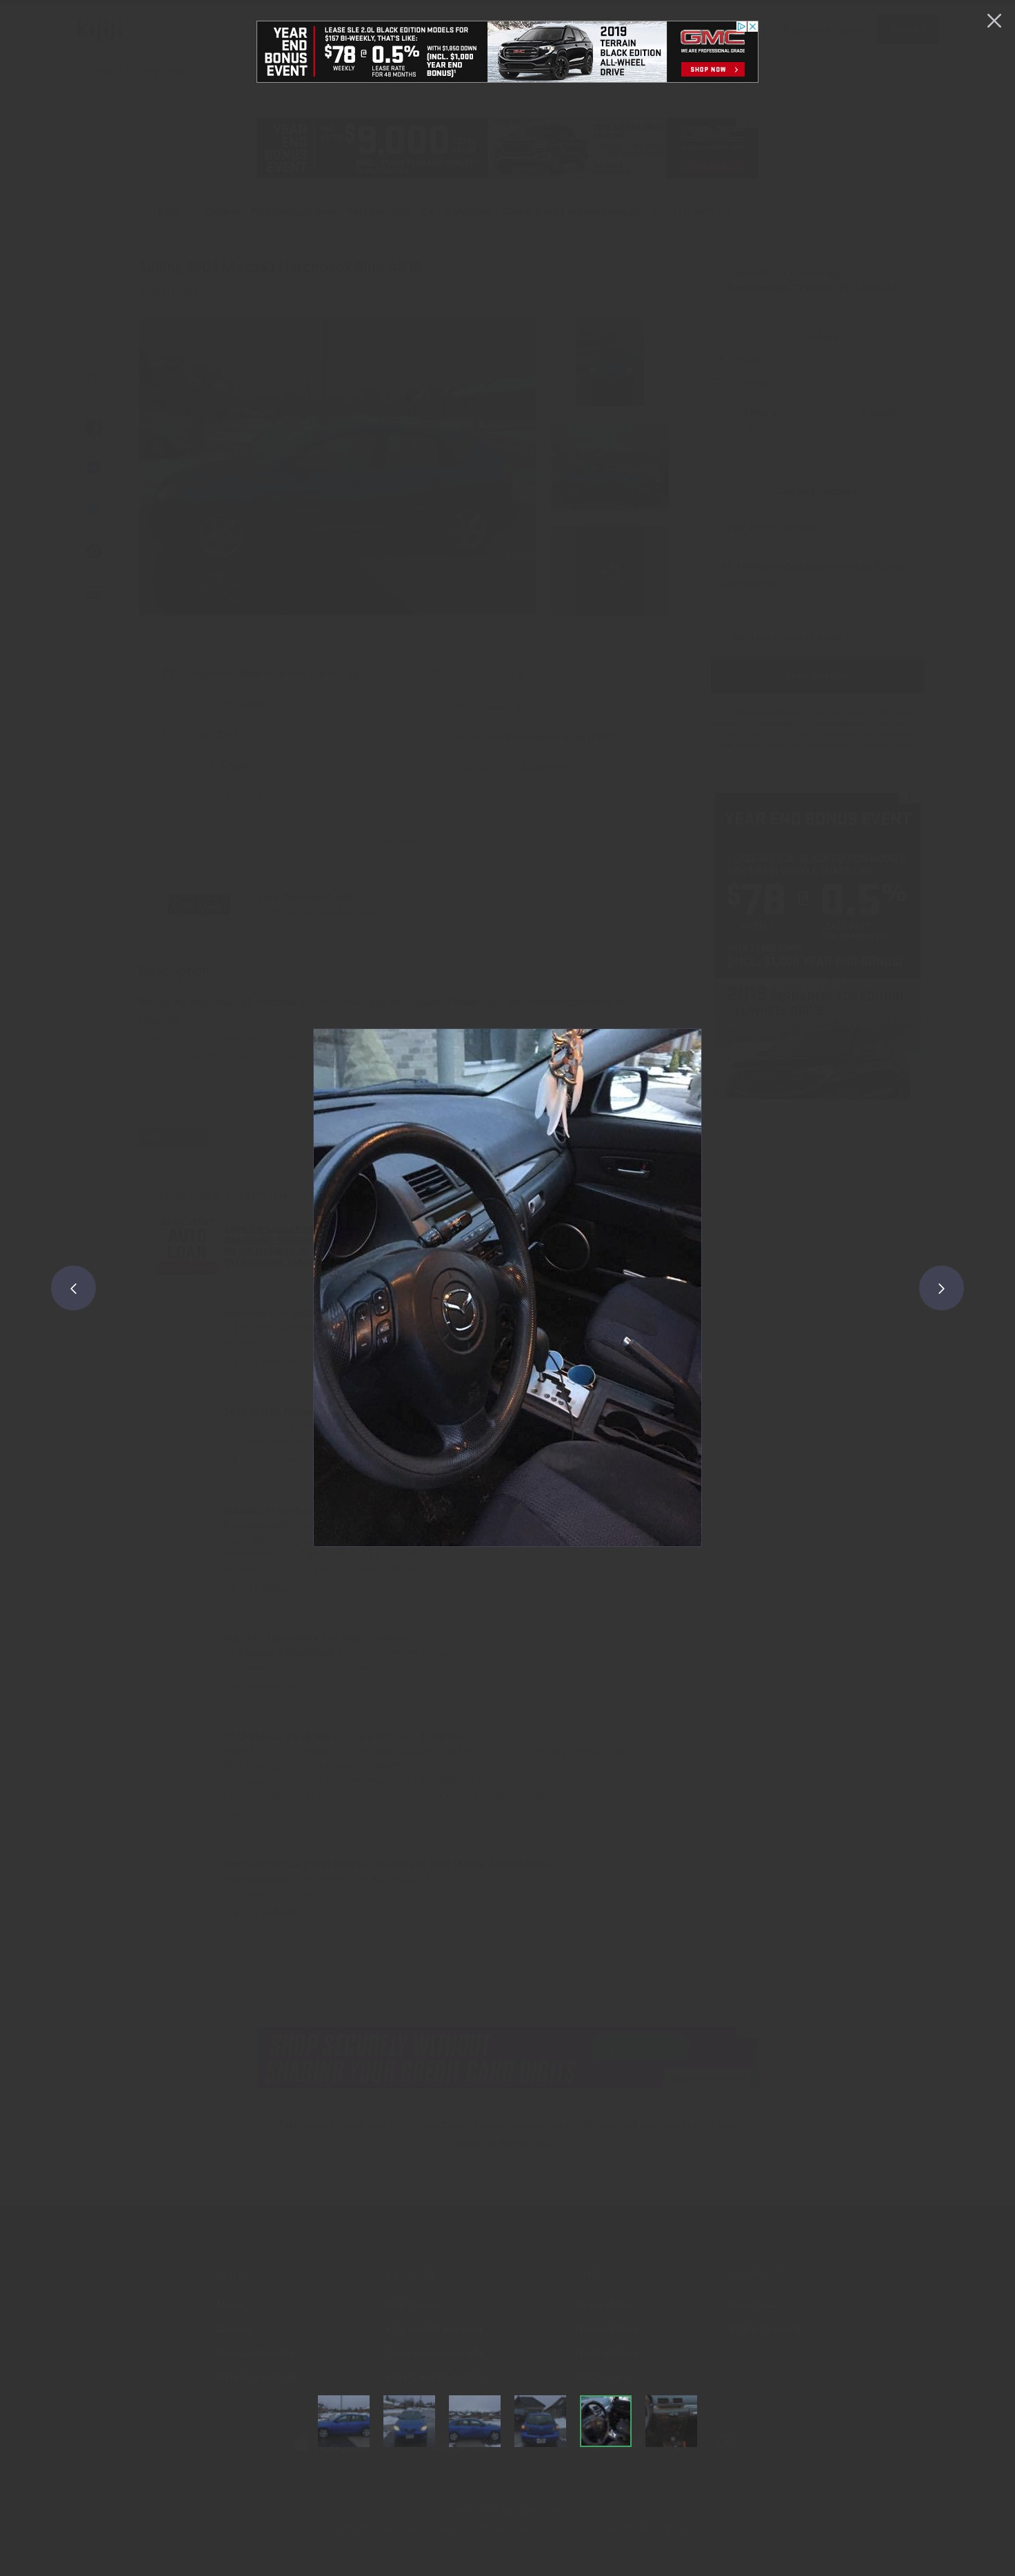car: (916, 1263, 967, 1316)
